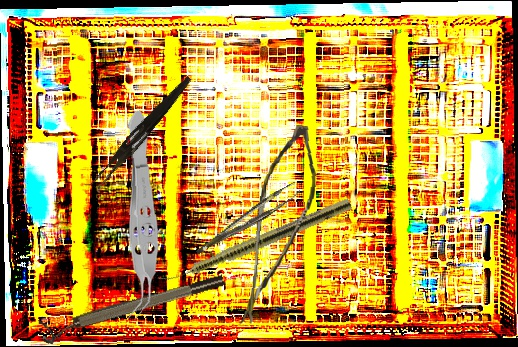Dressing Forceps: (90, 71, 194, 193)
Fixation Ring: (38, 271, 228, 346)
Handpiece: (156, 195, 353, 291)
Micro Scissor: (239, 121, 321, 331)
Tissue Forceps: (119, 109, 162, 321), (189, 181, 304, 255)
